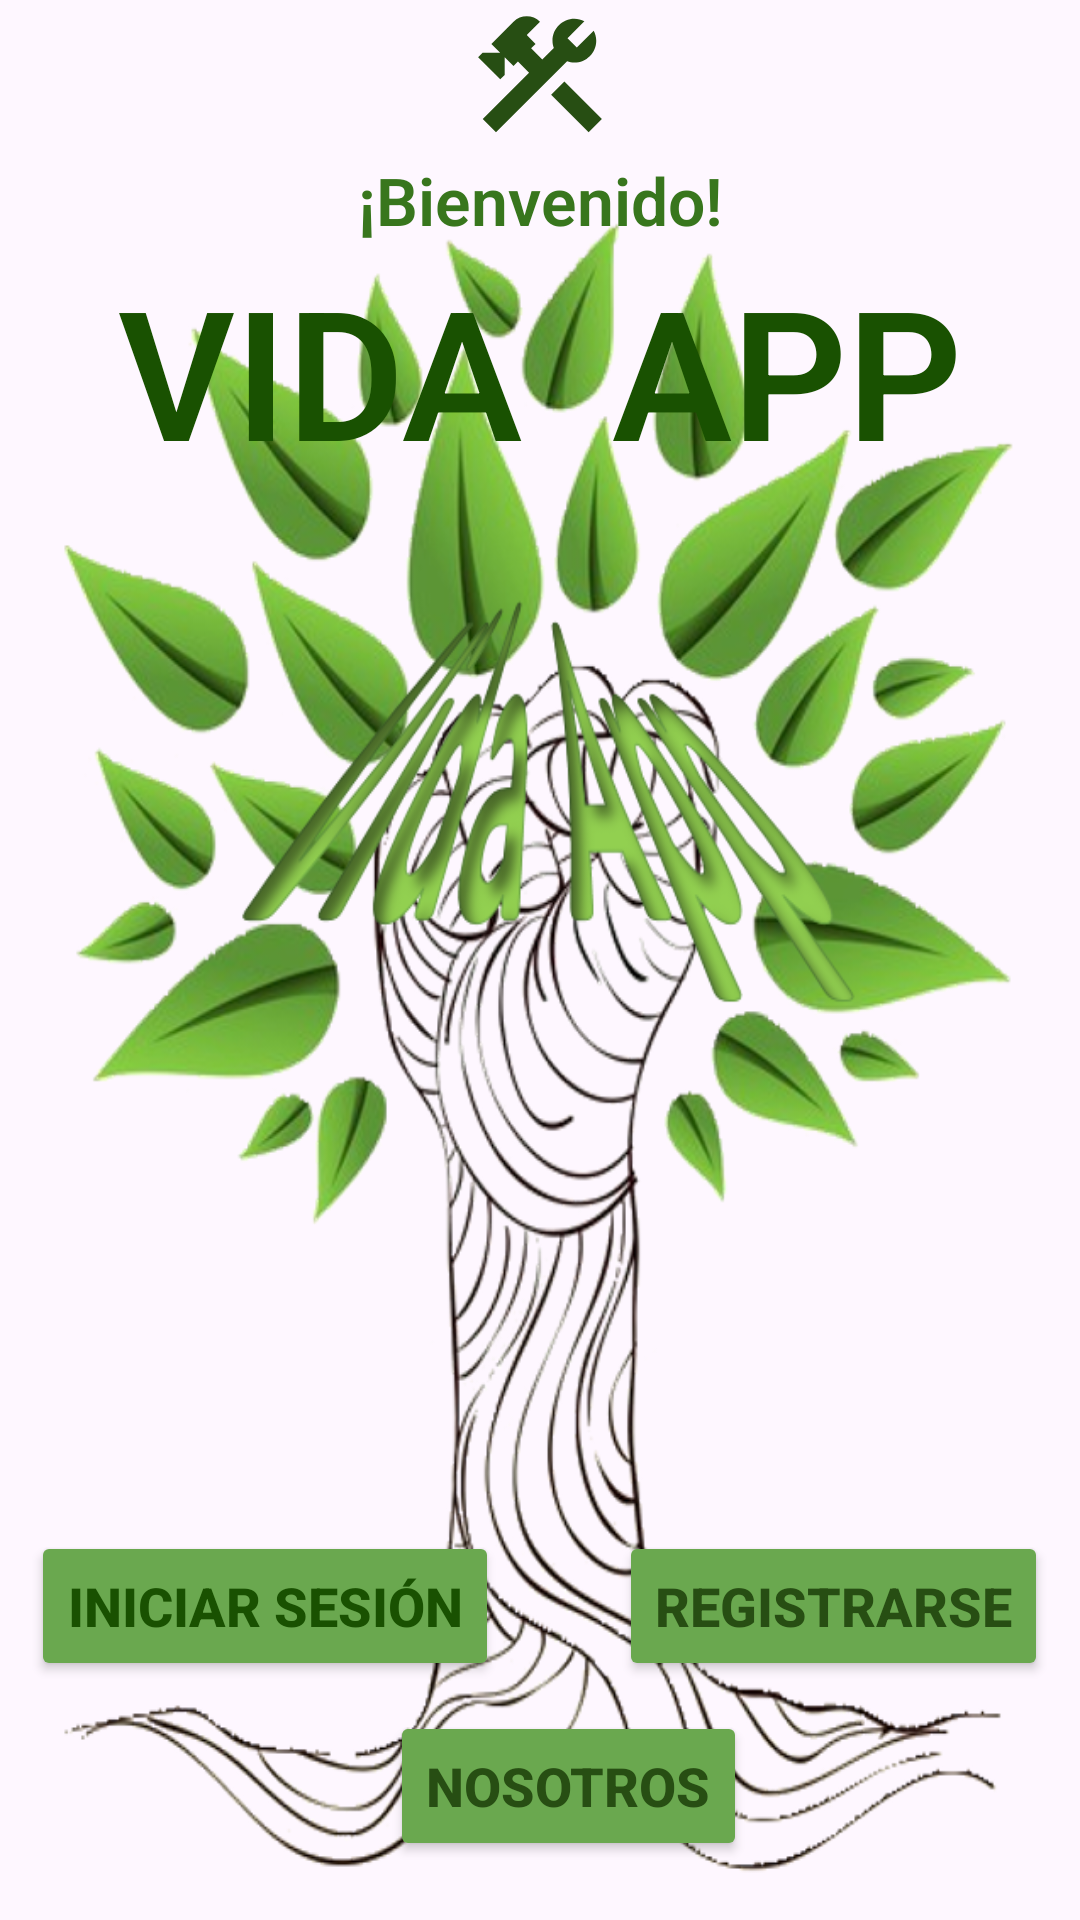

Where icons sit on this 1080px×1920px app screen, as (x1,y1,x2,y2):
isotipo: (478,16,602,132)
